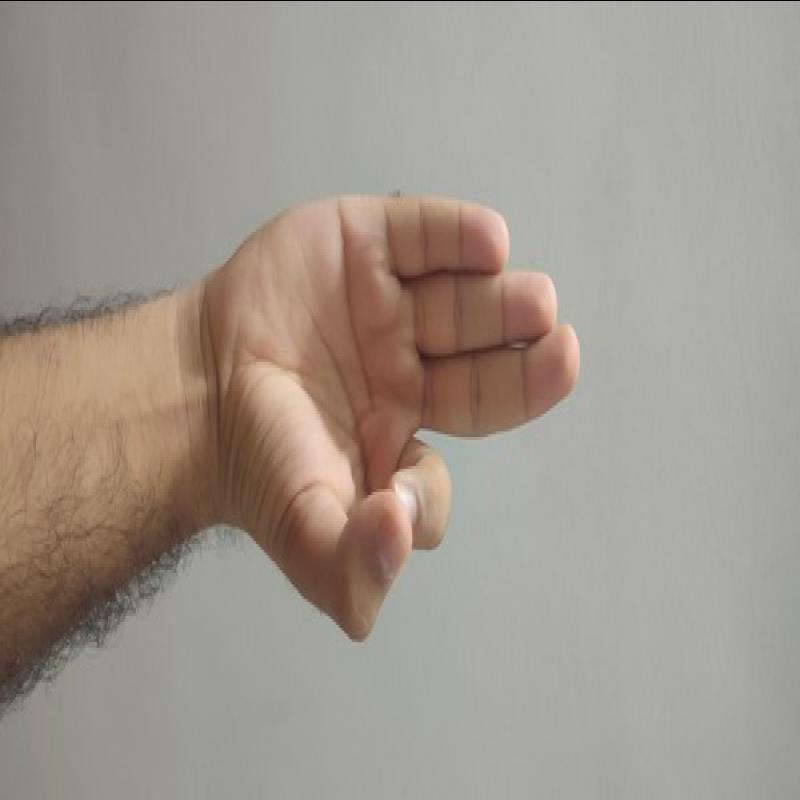Mudraakhyam: (184, 128, 595, 664)
